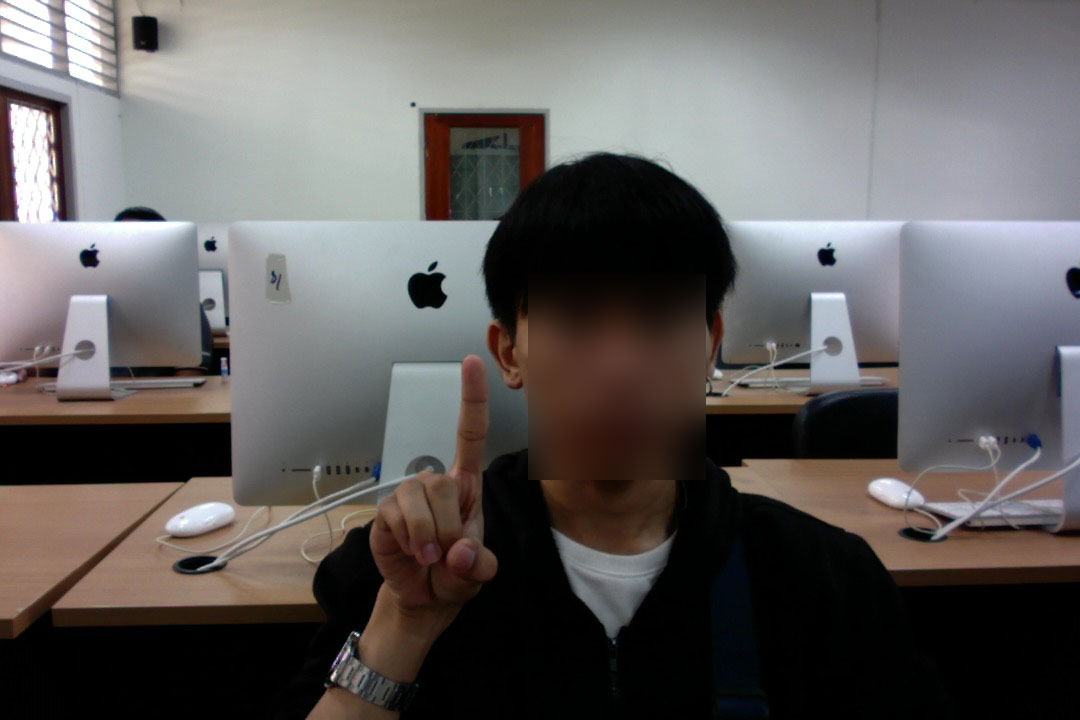dor: (354, 340, 509, 614)
